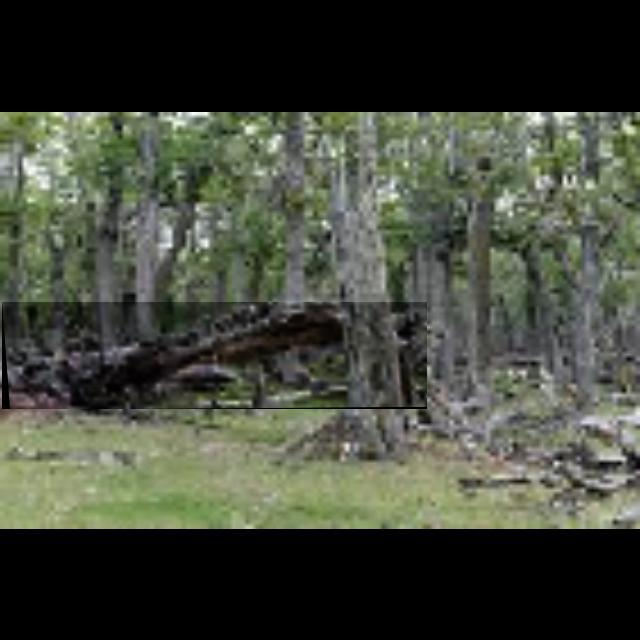fallen_tree: (2, 302, 428, 410)
